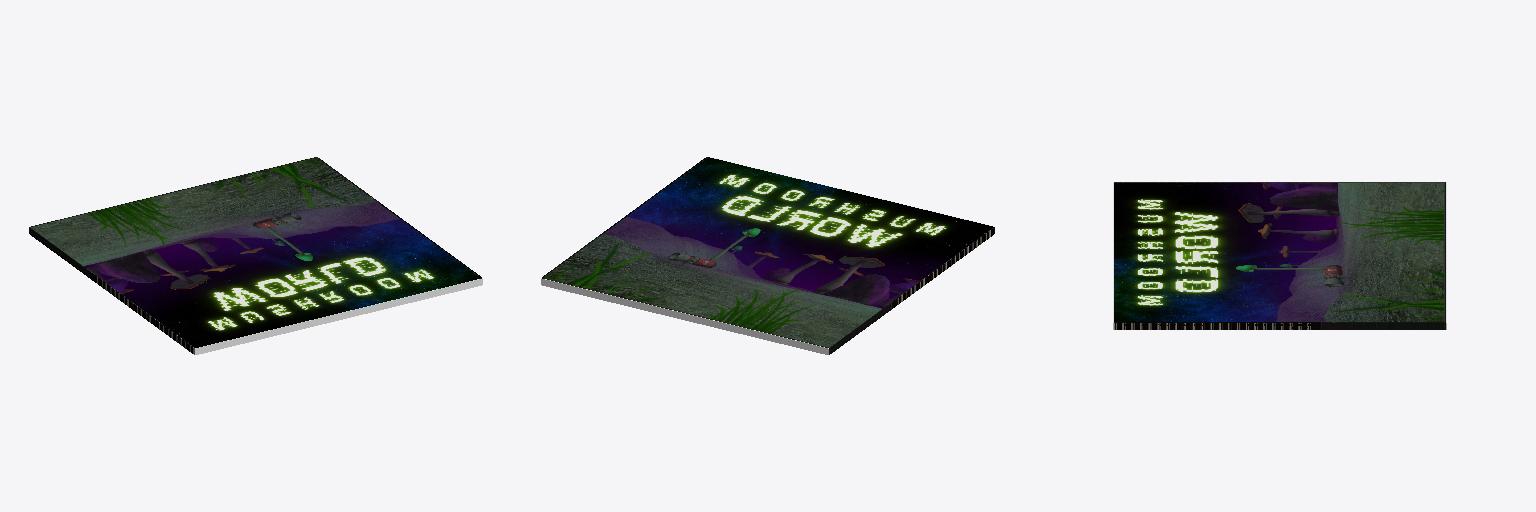
3 views of the same model, side by side, from view 1: azimuth 30°, elevation 25°; view 2: azimuth 150°, elevation 25°; view 3: azimuth 270°, elevation 25° (orthographic).
Visible parts, largest first — view 1: Plane; view 2: Plane; view 3: Plane.
Boxes of the visible parts, x1=… form: Plane: x1=29, y1=157, x2=482, y2=354; Plane: x1=541, y1=157, x2=994, y2=354; Plane: x1=1113, y1=182, x2=1446, y2=329.
Bounding box in the file's own units: 4 × 0.0914 × 4.
Materials: 1 (1 with a texture image).